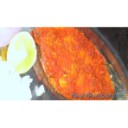seerfish: (32, 27, 115, 96)
